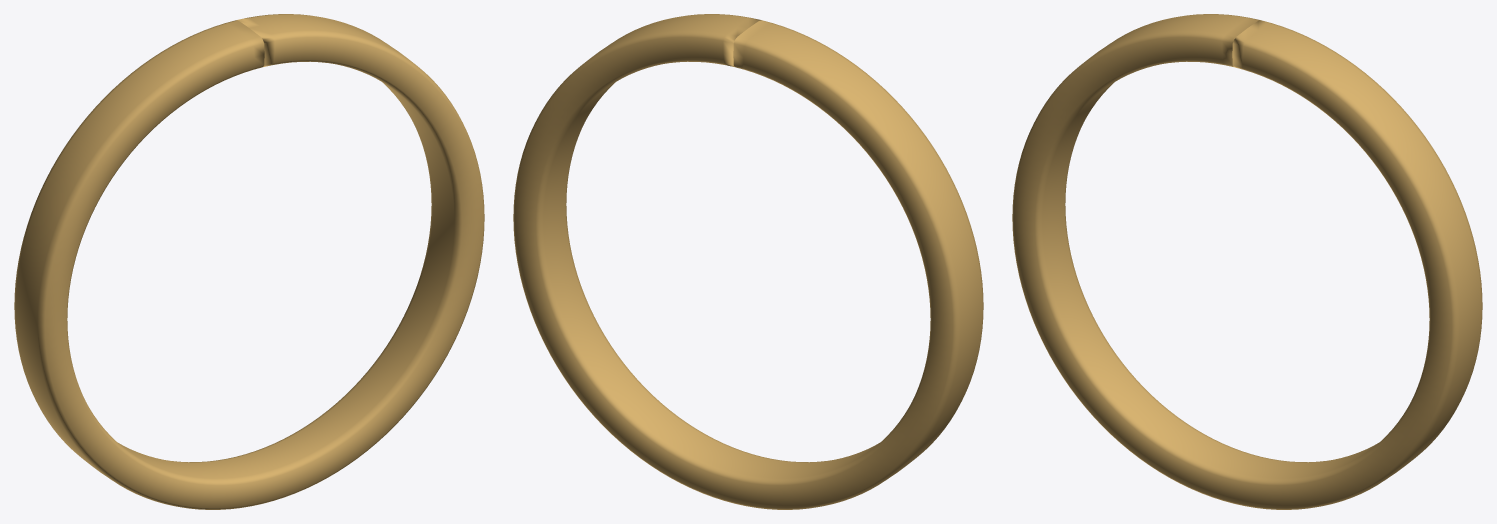
Rendered from bands-flat.glb.
The picture shows the model from 3 angles, left to right: view 1: azimuth 30°, elevation 25°; view 2: azimuth 150°, elevation 25°; view 3: azimuth 330°, elevation 25°; orthographic projection.
Visible parts, largest first — view 1: Band; view 2: Band; view 3: Band.
Part boxes in pixels (box(x1,y1,x2,y2)): Band: box(14, 14, 484, 509); Band: box(513, 14, 983, 509); Band: box(1012, 14, 1482, 509).
Size of the model in its own units: 19.6 by 19.6 by 2.3.
